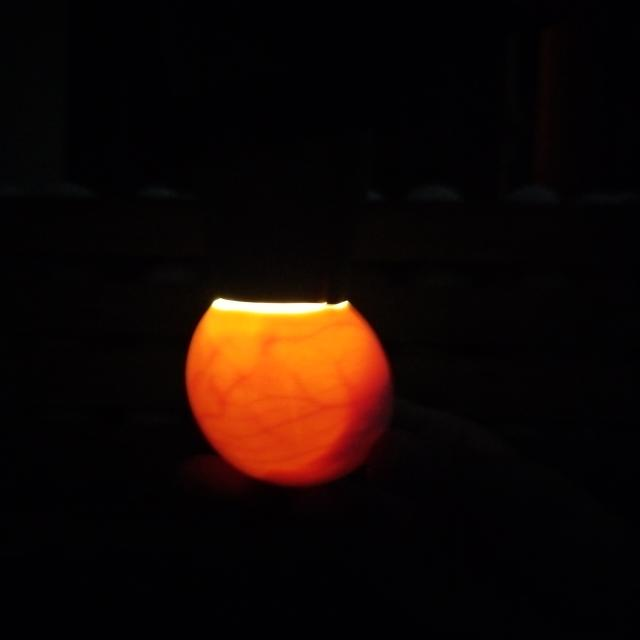Embriao: (284, 355, 397, 487)
